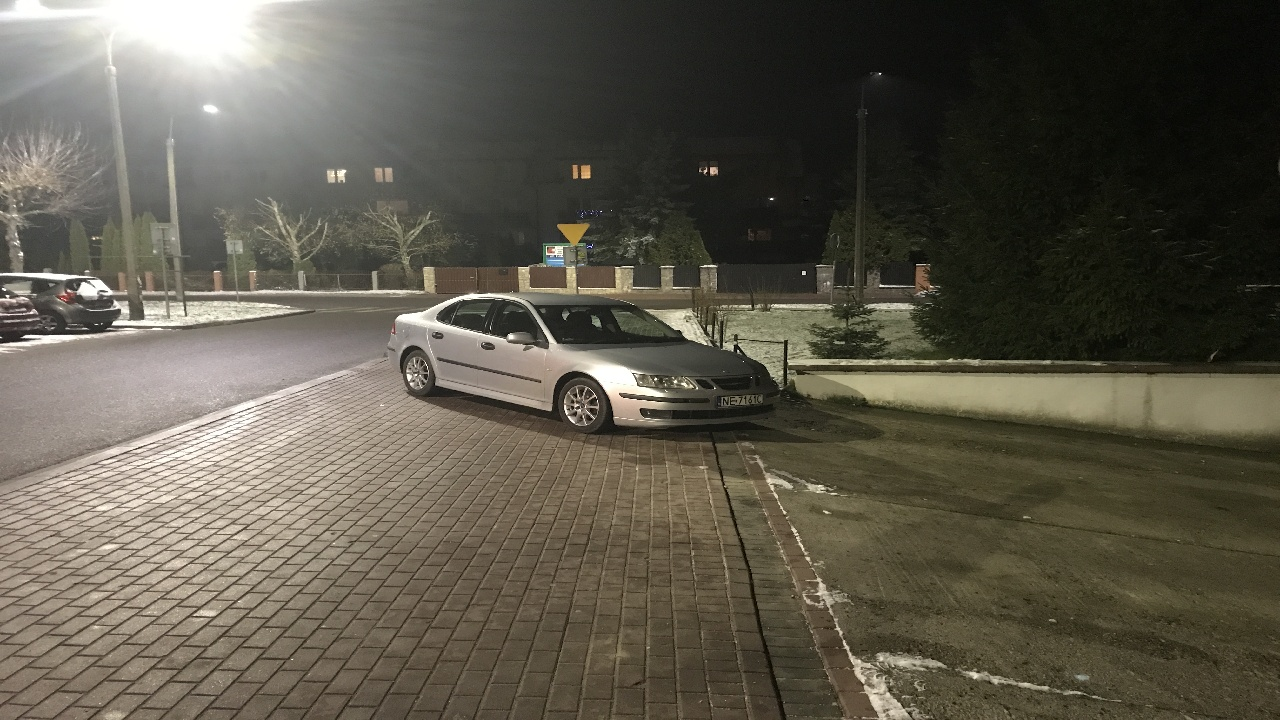A7: (556, 222, 591, 246)
